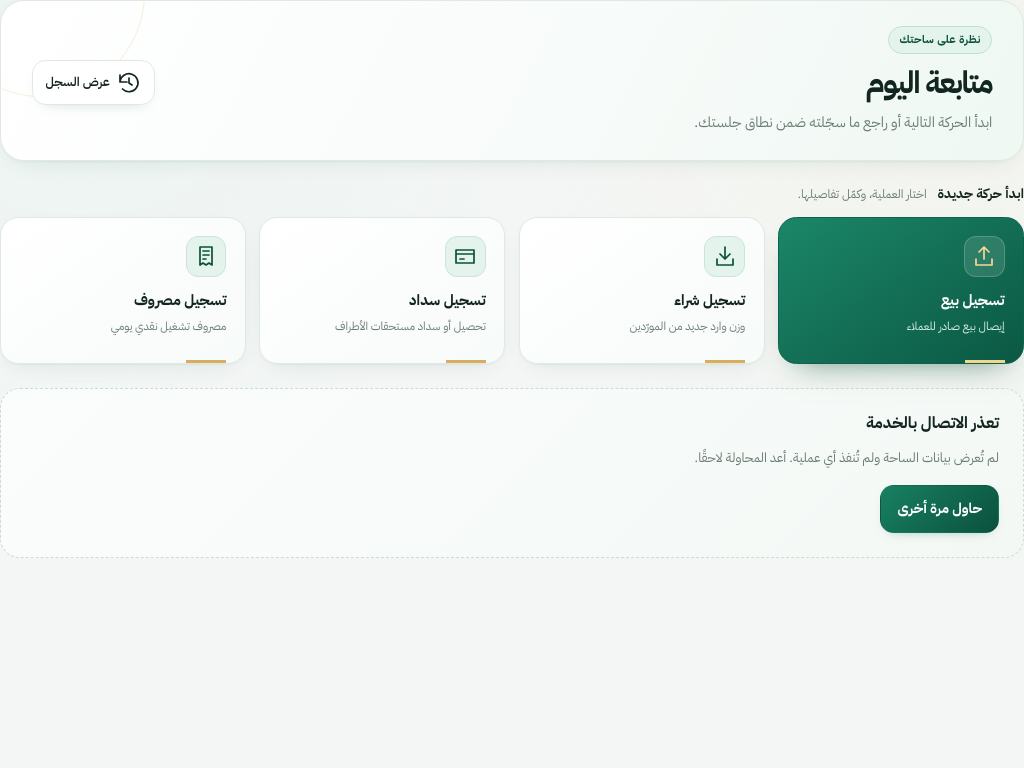
Test: workspace usability › retries a failed data request and explains the limited scope of the metrics
Click the button "حاول مرة أخرى" at {"x": 940, "y": 509}, box [880,485,999,534]
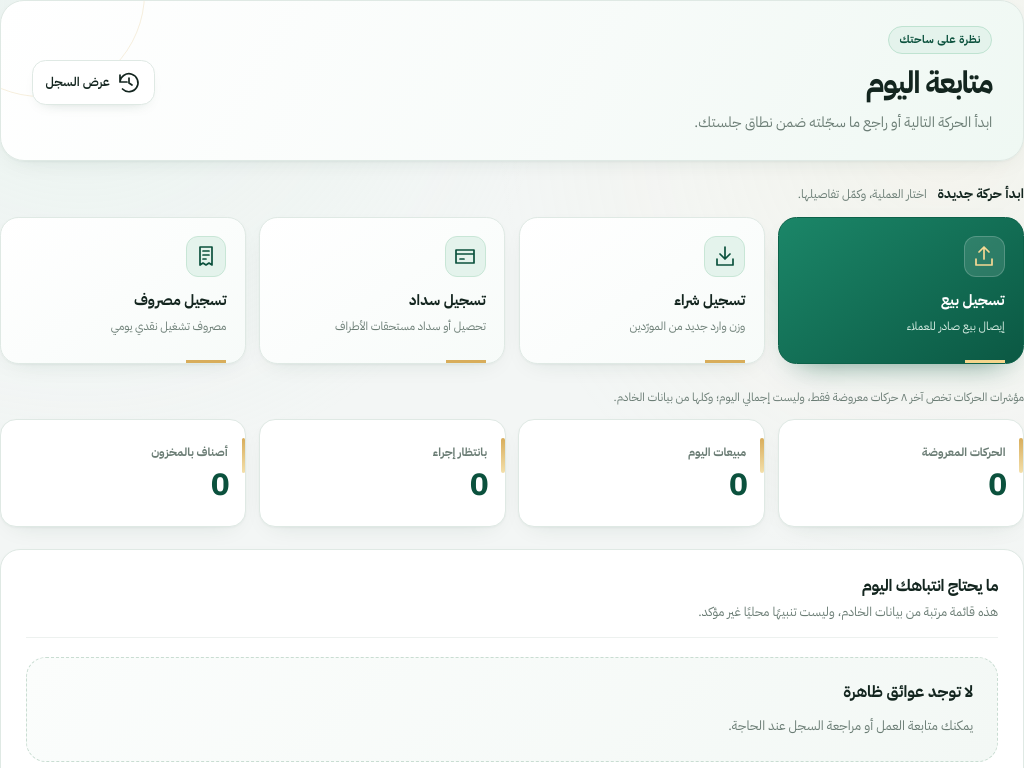
Now the text "الحركات المعروضة" is shown, box [922,444,1005,461]
Now the text "آخر ٨ حركات" is shown, box [614,389,1023,406]
